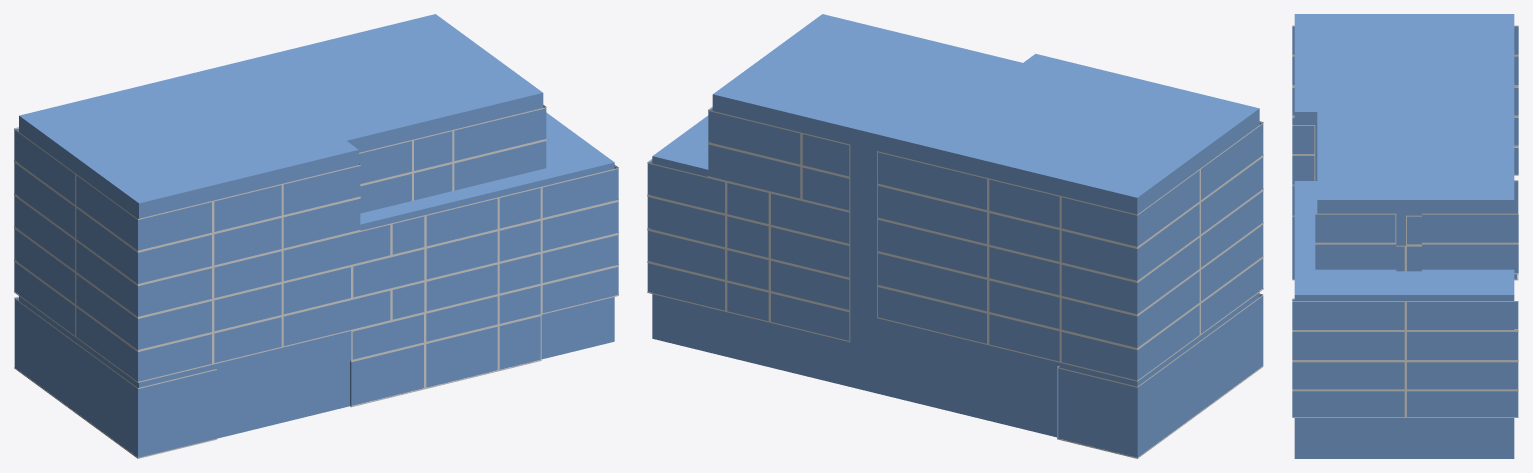
The model's file is BuildingA_Outlines.glb.
The picture shows the model from 3 angles, left to right: view 1: azimuth 30°, elevation 25°; view 2: azimuth 150°, elevation 25°; view 3: azimuth 270°, elevation 25°; orthographic projection. The views are drawn at different scales.
Visible parts, largest first — view 1: A_A, 001, 508, 310, 410, 607, 210, 408, 208, 002, 003, 602 (+35 smaller); view 2: A_A, 001, 509, 311, 411, 608, 211, 511, 313, 413, 610, 213 (+26 smaller); view 3: A_A, 304, 303, 601, 204, 404, 203, 403, 104, 103, 502, 602 (+4 smaller).
Boxes of the visible parts, x1,y1,x2,y2 form: A_A: (19, 14, 614, 438); 001: (14, 296, 216, 458); 508: (75, 206, 213, 284); 310: (75, 273, 213, 350); 410: (75, 240, 213, 317); 607: (75, 174, 213, 251); 210: (75, 306, 213, 382); 408: (282, 223, 391, 282); 208: (282, 289, 391, 347); 002: (350, 343, 424, 407); 003: (425, 325, 498, 389); 602: (453, 105, 546, 162); A_A: (652, 14, 1259, 437); 001: (1057, 293, 1263, 458); 509: (1060, 202, 1200, 281); 311: (1060, 270, 1200, 348); 411: (1060, 236, 1200, 315); 608: (1060, 169, 1200, 247); 211: (1060, 303, 1200, 381); 511: (877, 184, 988, 245); 313: (877, 252, 988, 312); 413: (877, 218, 988, 278); 610: (877, 151, 988, 211); 213: (877, 285, 988, 344); A_A: (1294, 14, 1514, 458); 304: (1292, 331, 1405, 361); 303: (1406, 331, 1518, 361); 601: (1406, 213, 1518, 245); 204: (1292, 361, 1405, 390); 404: (1292, 301, 1405, 330); 203: (1406, 361, 1518, 390); 403: (1406, 301, 1518, 330); 104: (1292, 390, 1405, 417); 103: (1406, 390, 1518, 417); 502: (1406, 243, 1518, 274); 602: (1315, 213, 1396, 243).
Bounding box in the file's own units: 44.68 × 22.57 × 19.92.
